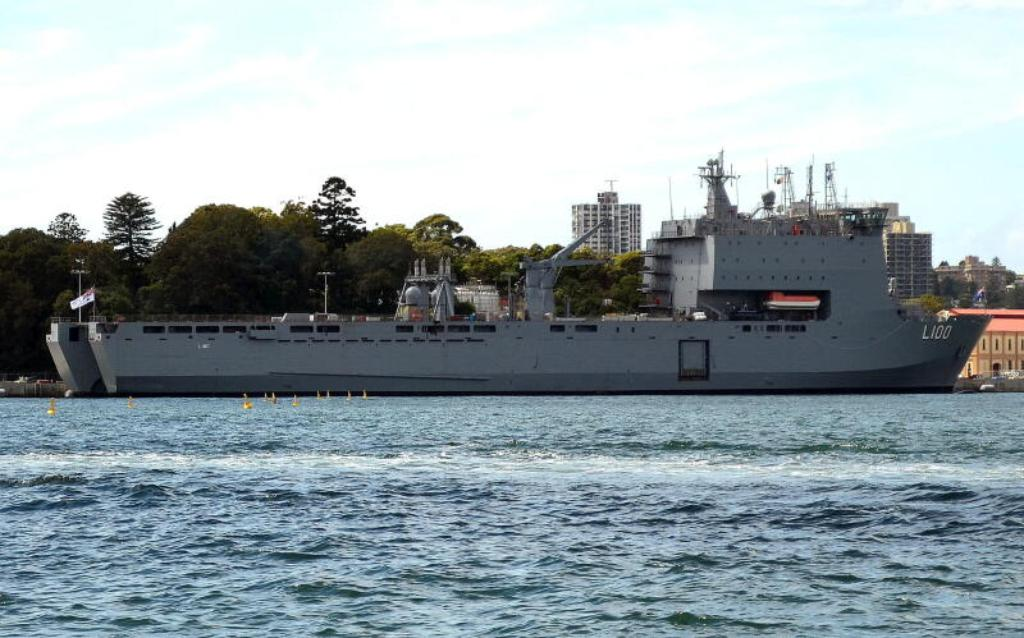Warship: (45, 146, 995, 395)
